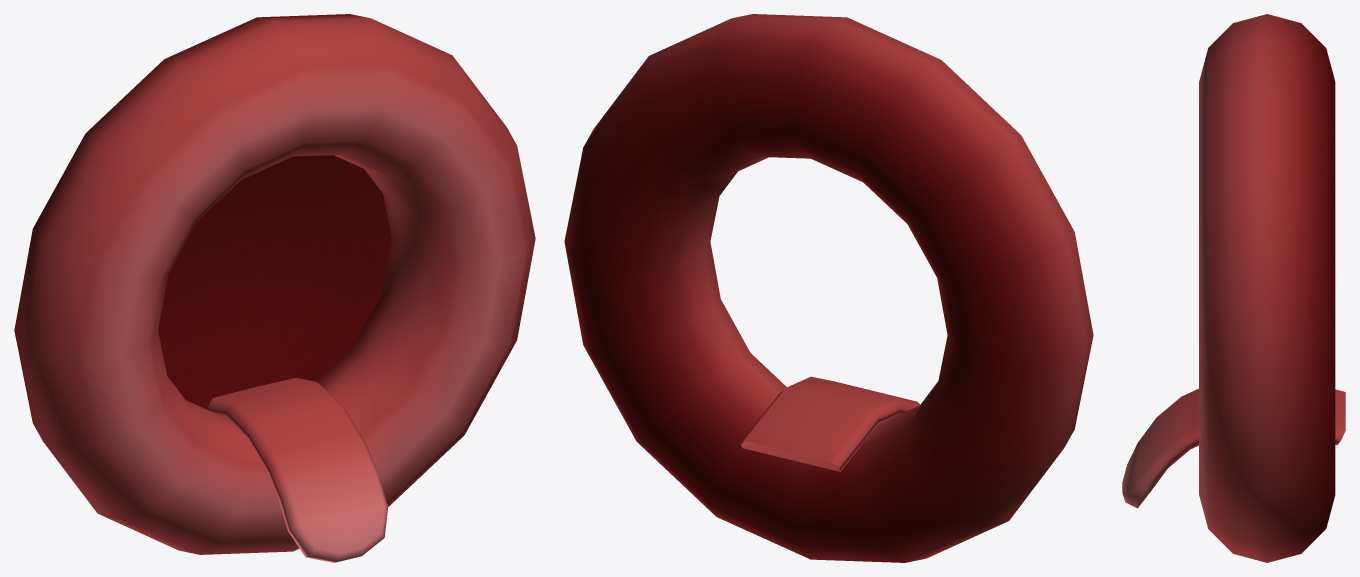
File: Mouth2.fbx
3 renders of one model, left to right at view 1: azimuth 30°, elevation 25°; view 2: azimuth 150°, elevation 25°; view 3: azimuth 270°, elevation 25°, orthographic. The views are drawn at different scales.
Parts seen in each view (by area): view 1: Lip, Maw, tounge; view 2: Lip, tounge; view 3: Lip, tounge.
Part boxes in pixels (box(x1,y1,x2,y2)): Lip: box(14, 14, 535, 554); Maw: box(158, 155, 391, 409); tounge: box(207, 378, 388, 562); Lip: box(564, 14, 1093, 562); tounge: box(740, 376, 920, 471); Lip: box(1199, 14, 1335, 562); tounge: box(1122, 388, 1345, 508).
Size of the model in its own units: 2.66 by 2.66 by 1.08.
Materials: 1 (1 with a texture image).
